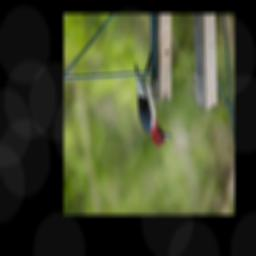Woodpecker: (134, 62, 172, 146)
